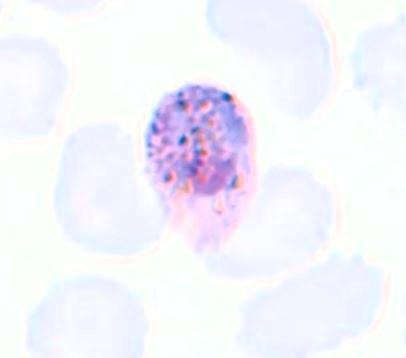Infected: (143, 84, 259, 255)
Uninfected: (205, 0, 336, 118), (203, 166, 337, 280), (239, 255, 386, 355), (53, 121, 161, 254), (24, 274, 147, 358), (0, 30, 68, 139)
